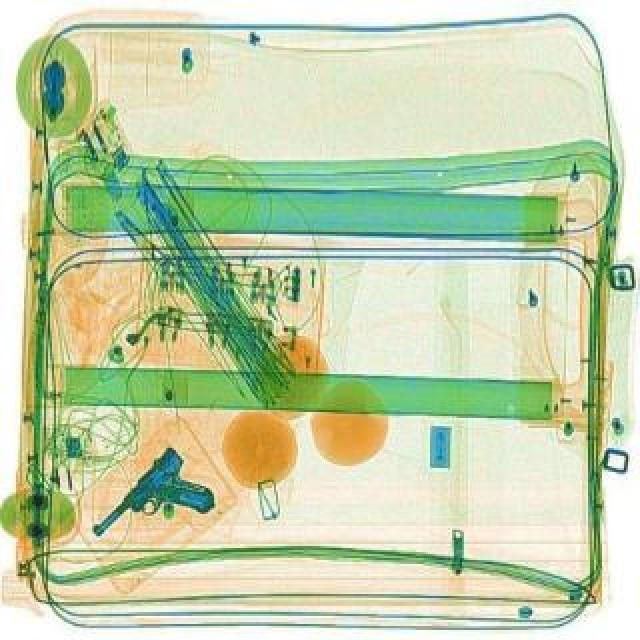gun: (84, 440, 224, 572)
